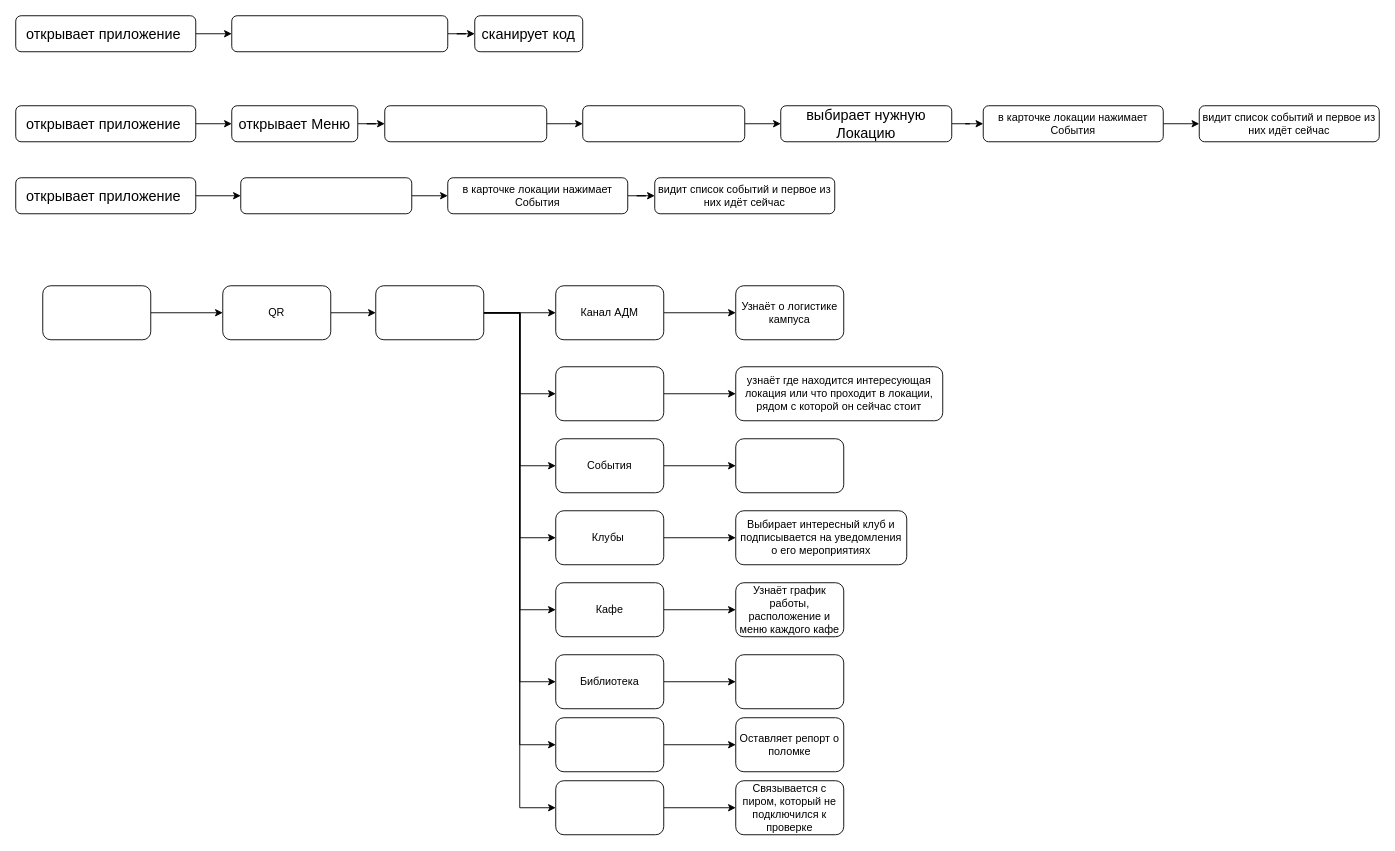
The diagram is 1395 pixels wide and 851 high, and some of its shapes have lost their labels. The centre of each missing label's shape, as x and y in pixels:
P2P Чат: the point at 609,807
Берёт/сдаёт книгу: the point at 789,681
в поиске вводит название локации: the point at 326,195
видит QR на главном экране: the point at 339,33
Вход: the point at 96,312
Выбирает на что и куда пойти: the point at 789,465
выбирает нужный этаж: the point at 663,123
Локации: the point at 609,393
Меню: the point at 429,312
переходит в локации: the point at 465,123
Репорт: the point at 609,744
